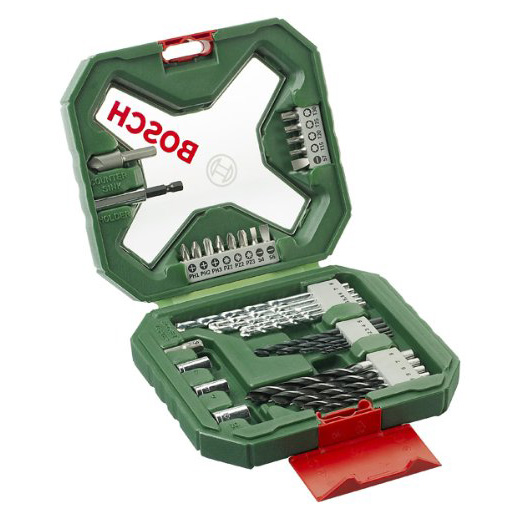Bosch: (105, 92, 207, 173)
